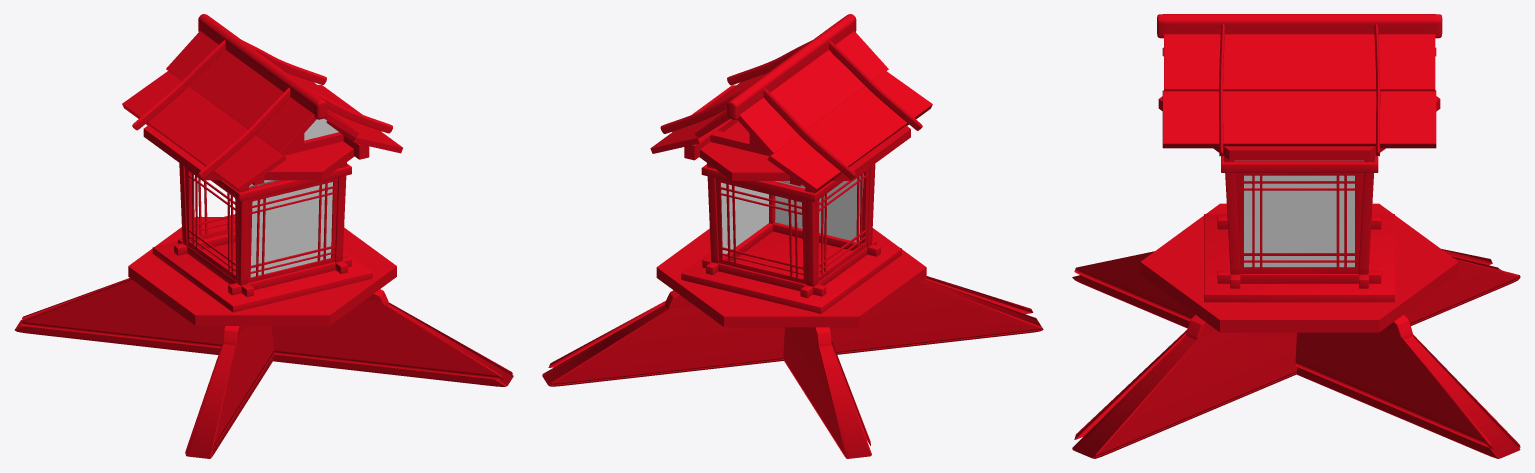
Rendered from Lamparas de jardin.fbx.
The picture shows the model from 3 angles, left to right: view 1: azimuth 30°, elevation 25°; view 2: azimuth 150°, elevation 25°; view 3: azimuth 270°, elevation 25°; orthographic projection. The views are drawn at different scales.
Visible parts, largest first — view 1: Cilindro; view 2: Cilindro; view 3: Cilindro.
Part boxes in pixels (box(x1,y1,x2,y2)): Cilindro: box(14, 14, 513, 458); Cilindro: box(542, 14, 1043, 458); Cilindro: box(1072, 14, 1520, 458).
Bounding box in the file's own units: 128 × 111 × 128.
